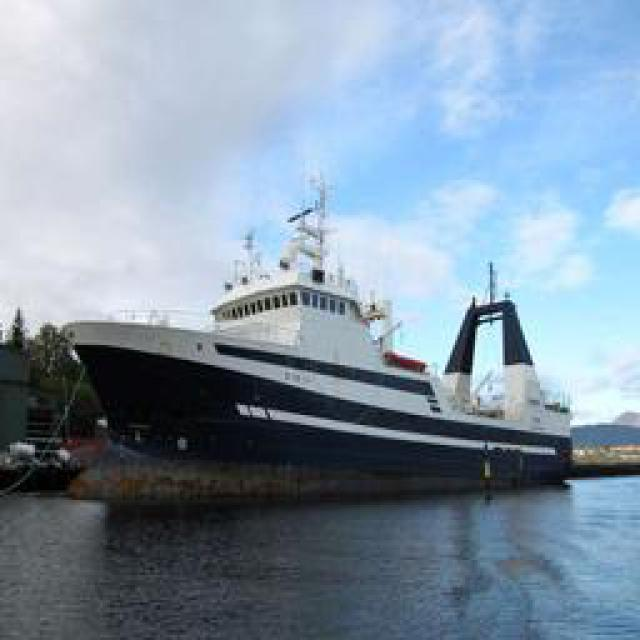Ship: (54, 197, 577, 513)
